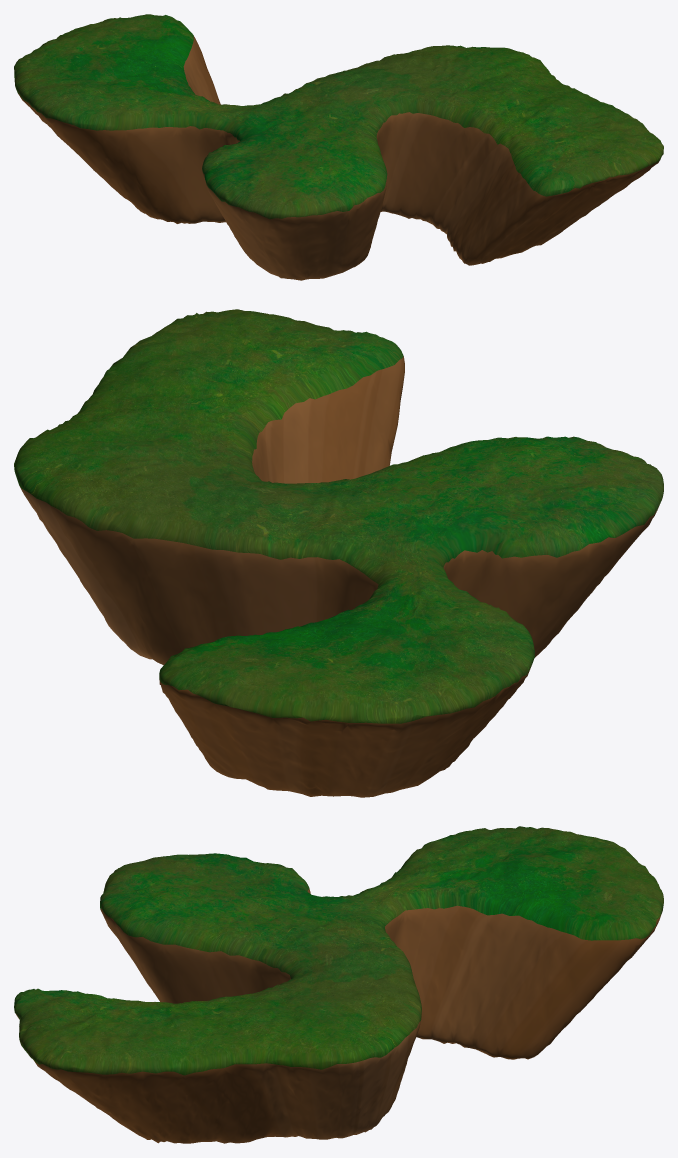
Rendered from ilha3.fbx.
3 renders of one model, top to bottom at view 1: azimuth 30°, elevation 25°; view 2: azimuth 150°, elevation 25°; view 3: azimuth 270°, elevation 25°, orthographic. The views are drawn at different scales.
Parts seen in each view (by area): view 1: polySurface7; view 2: polySurface7; view 3: polySurface7.
Part boxes in pixels (left/top/right/bottom): polySurface7: left=14, top=14, right=663, bottom=280; polySurface7: left=14, top=309, right=663, bottom=797; polySurface7: left=14, top=826, right=663, bottom=1143.
Bounding box in the file's own units: 19.21 × 5.27 × 21.92.
Materials: 2 (2 with a texture image).
